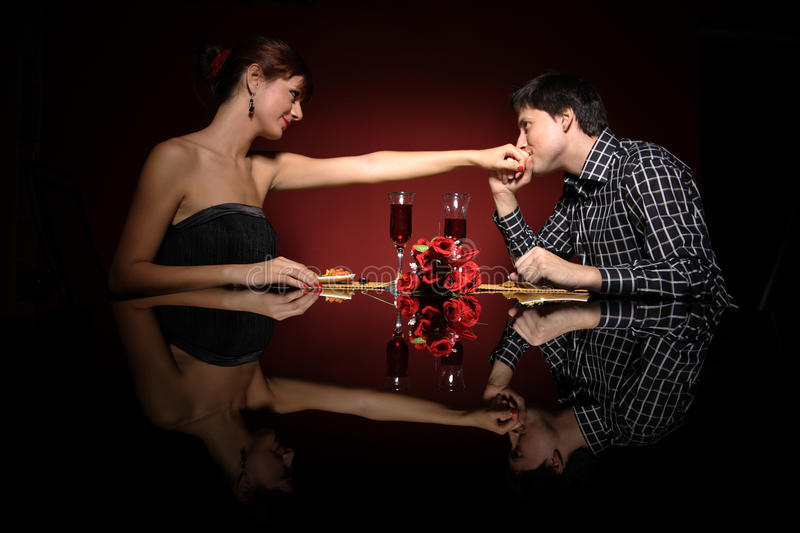RedRose: (441, 264, 471, 299), (457, 265, 484, 300), (409, 234, 435, 269), (416, 259, 445, 290), (388, 270, 420, 298), (432, 233, 455, 259)
